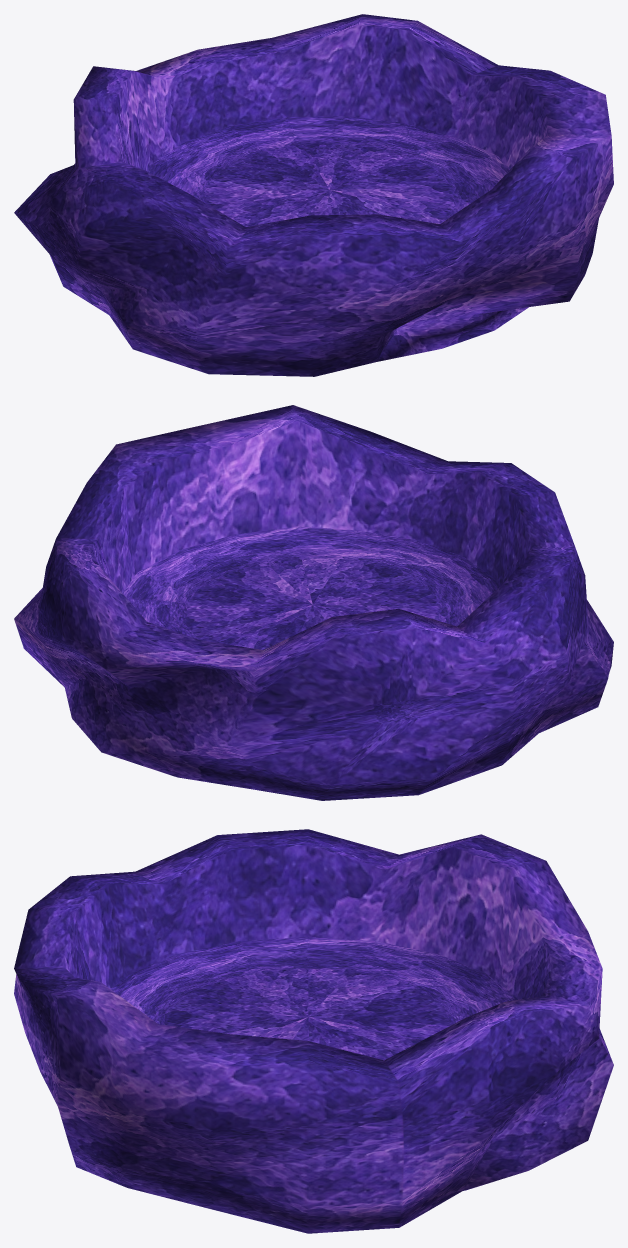
File: crater3.glb
The picture shows the model from 3 angles, top to bottom: view 1: azimuth 30°, elevation 25°; view 2: azimuth 150°, elevation 25°; view 3: azimuth 270°, elevation 25°; orthographic projection. The views are drawn at different scales.
Parts seen in each view (by area): view 1: pSphere1; view 2: pSphere1; view 3: pSphere1.
Boxes of the visible parts, box(x1,y1,x2,y2) form: pSphere1: box(14, 14, 613, 376); pSphere1: box(14, 405, 613, 800); pSphere1: box(14, 829, 613, 1233).
Bounding box in the file's own units: 5.83 × 1.8 × 5.33.
Materials: 1 (1 with a texture image).
